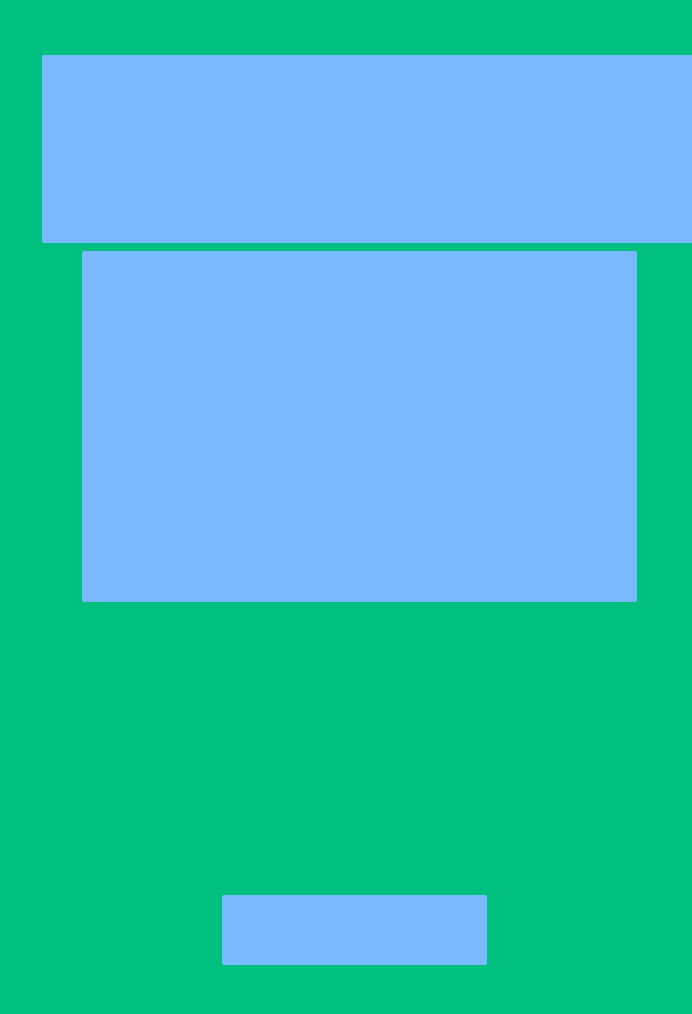Text_area: (83, 252, 635, 600), (43, 56, 692, 241), (223, 896, 485, 963)
